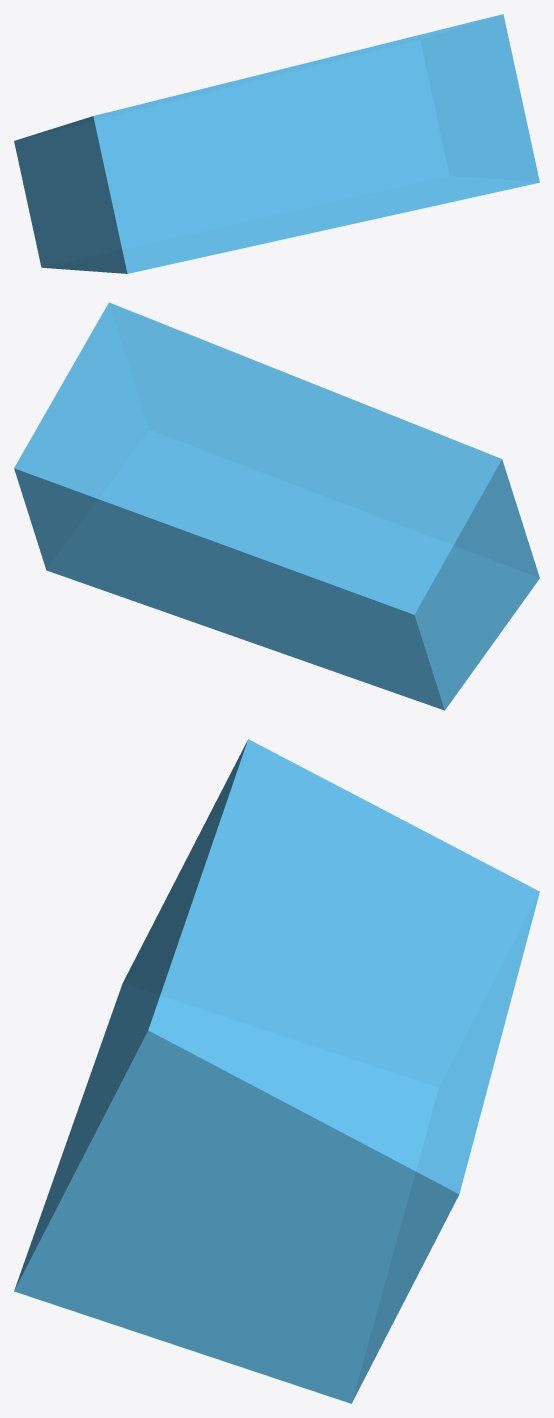
The model's file is Event_421364160_HErechit_50.fbx.
The picture shows the model from 3 angles, top to bottom: view 1: azimuth 30°, elevation 25°; view 2: azimuth 150°, elevation 25°; view 3: azimuth 270°, elevation 25°; orthographic projection. The views are drawn at different scales.
Parts seen in each view (by area): view 1: Model; view 2: Model; view 3: Model.
Boxes of the visible parts, bbox=[...] form: Model: bbox=[14, 14, 539, 273]; Model: bbox=[14, 302, 539, 710]; Model: bbox=[14, 739, 539, 1403].
Bounding box in the file's own units: 0.7221 × 0.3917 × 0.4654.
